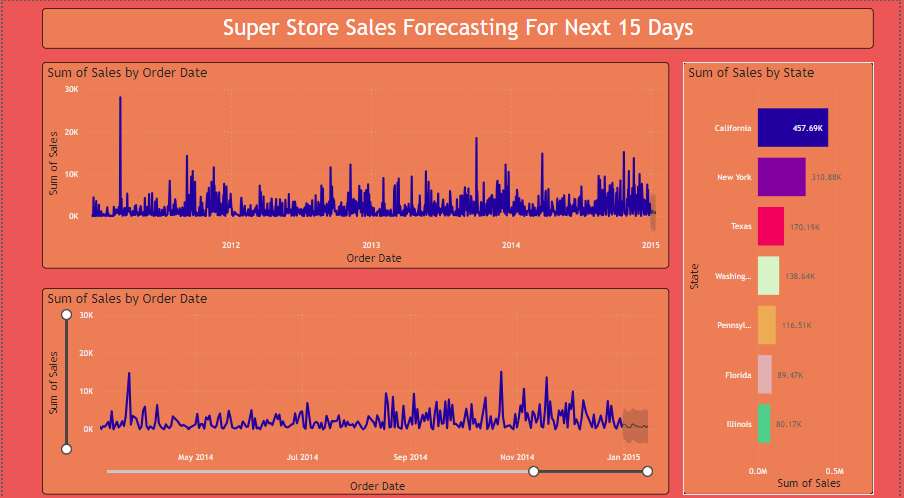

What the dashboard file says about the page in this screenshot:
{"tool":"powerbi","page":{"name":"Forecasting","canvas":[1280,720],"ordinal":2},"visuals":[{"type":"lineChart","fields":{"Y":["Sum(Superstore.Sales)"],"Category":["Superstore.Order Date"]},"box":[56.2,87.8,895.7,295.2],"z":0},{"type":"textbox","box":[56.2,10.1,1188,57.6],"z":1000},{"type":"lineChart","fields":{"Y":["Sum(Superstore.Sales)"],"Category":["Superstore.Order Date"]},"box":[56.2,410.4,895.7,295.2],"z":2000},{"type":"clusteredBarChart","fields":{"Y":["Sum(Superstore.Sales)"],"Category":["Superstore.State"]},"box":[972,87.8,272.2,617.8],"z":3000}]}

Visuals, with their boxes in screenshot pixels (x1, y1, x2, y2), scaled from the page's 1280x720 canvas onto the 904x498 screenshot:
lineChart - Sum(Superstore.Sales) x Superstore.Order Date: l=40, t=61, r=672, b=265
textbox: l=40, t=7, r=879, b=47
lineChart - Sum(Superstore.Sales) x Superstore.Order Date: l=40, t=284, r=672, b=488
clusteredBarChart - Sum(Superstore.Sales) x Superstore.State: l=686, t=61, r=879, b=488
